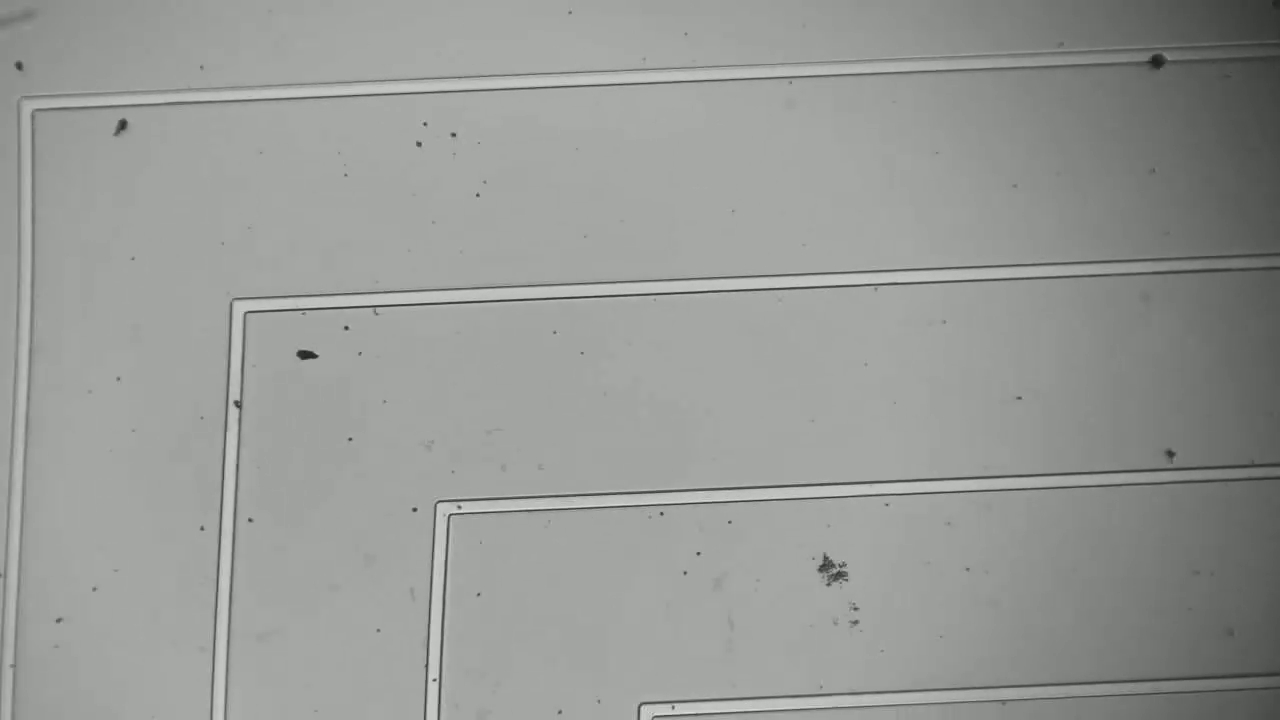stains_enbedded: (1142, 34, 1176, 76), (222, 386, 250, 417)
